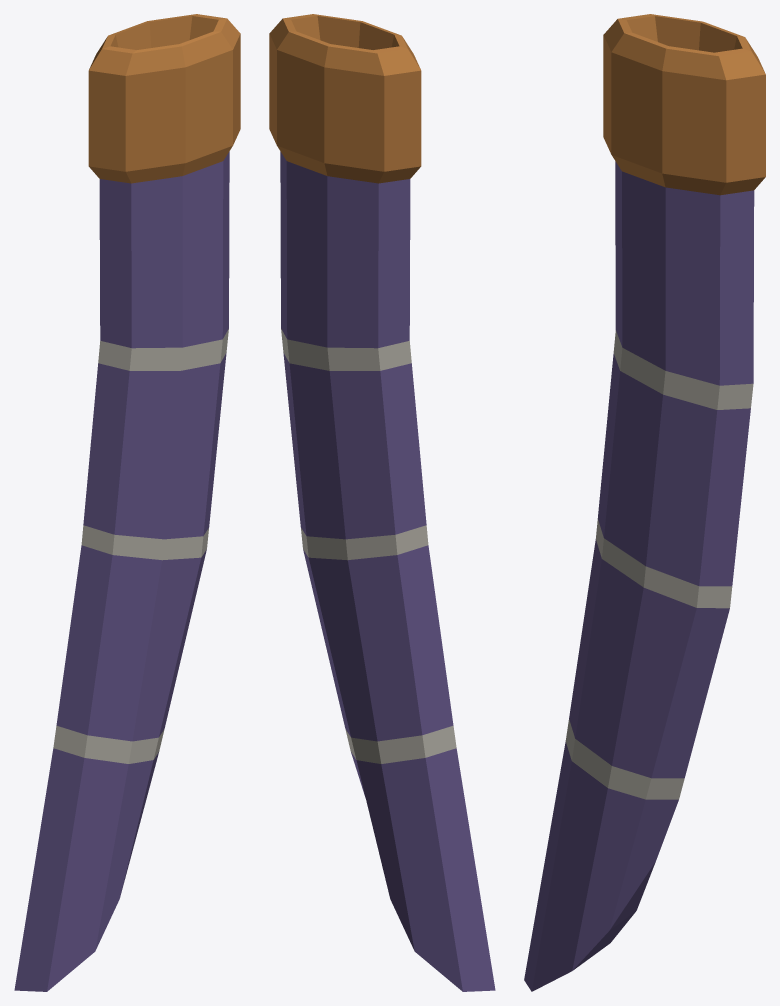
File: SM_pwe_china_dagger_scabbard_01.fbx
3 views of the same model, side by side, from view 1: azimuth 30°, elevation 25°; view 2: azimuth 150°, elevation 25°; view 3: azimuth 330°, elevation 25° (orthographic). The views are drawn at different scales.
Parts seen in each view (by area): view 1: SM_pwe_china_dagger_scabbard_01; view 2: SM_pwe_china_dagger_scabbard_01; view 3: SM_pwe_china_dagger_scabbard_01.
Boxes of the visible parts, bbox=[...] form: SM_pwe_china_dagger_scabbard_01: bbox=[14, 14, 240, 991]; SM_pwe_china_dagger_scabbard_01: bbox=[269, 14, 495, 991]; SM_pwe_china_dagger_scabbard_01: bbox=[524, 14, 765, 991].
Bounding box in the file's own units: 7.23 × 28.15 × 2.32.
